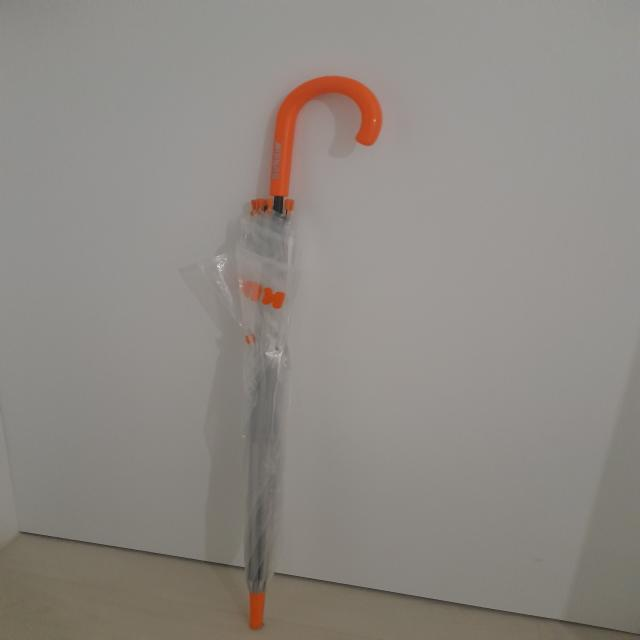umbrella: (217, 76, 383, 628)
